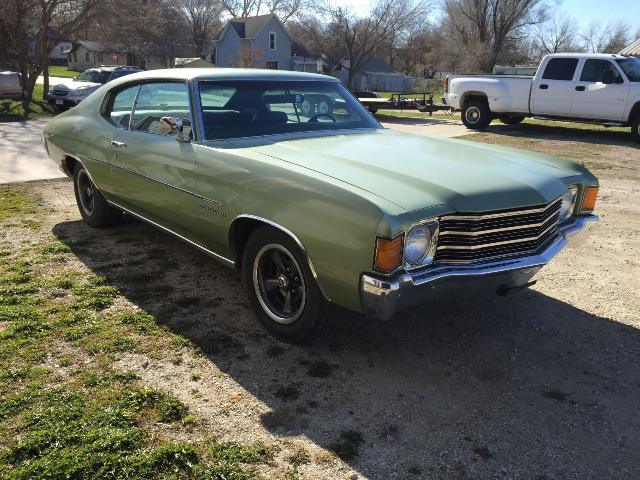chevelle-1972: (42, 69, 598, 343)
